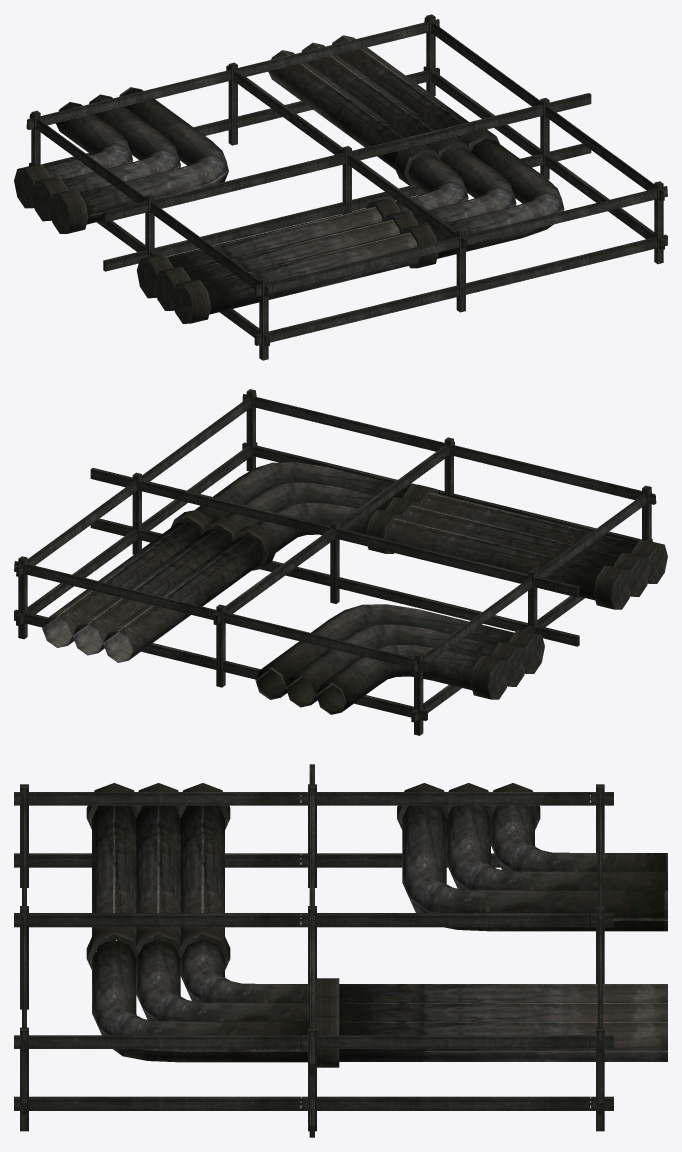
Rendered from tesla_dressing_pipe_clusters_02_corner.dae.
3 views of the same model, one above another, from view 1: azimuth 30°, elevation 25°; view 2: azimuth 150°, elevation 25°; view 3: azimuth 270°, elevation 25° (orthographic). The views are drawn at different scales.
Parts seen in each view (by area): view 1: cluster_02_corner_pipes1, cluster_01_frame2; view 2: cluster_02_corner_pipes1, cluster_01_frame2; view 3: cluster_02_corner_pipes1, cluster_01_frame2.
Part boxes in pixels (left/top/right/bottom): cluster_02_corner_pipes1: left=14, top=35, right=564, bottom=323; cluster_01_frame2: left=26, top=14, right=667, bottom=360; cluster_02_corner_pipes1: left=42, top=462, right=667, bottom=714; cluster_01_frame2: left=14, top=389, right=656, bottom=735; cluster_02_corner_pipes1: left=86, top=783, right=667, bottom=1067; cluster_01_frame2: left=14, top=764, right=613, bottom=1137.
Size of the model in its own units: 4 by 0.6225 by 3.69.
